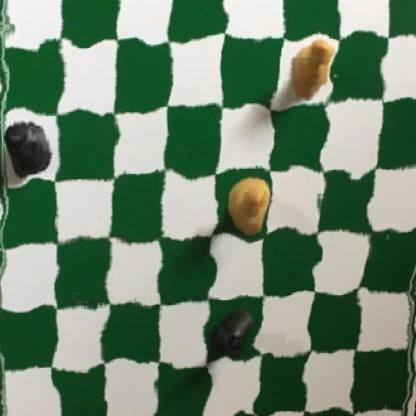black-bishop: (2, 122, 52, 181), (209, 309, 259, 361)
white-bishop: (283, 43, 337, 109), (222, 170, 272, 233)
